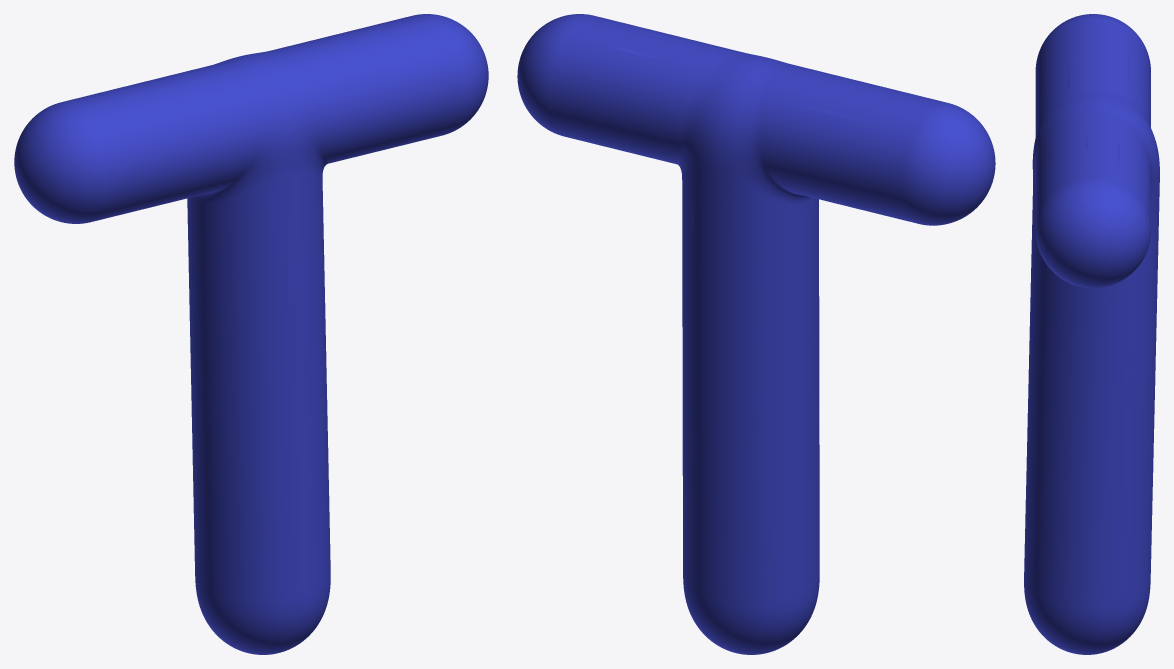
Rendered from letter-t.glb.
The picture shows the model from 3 angles, left to right: view 1: azimuth 30°, elevation 25°; view 2: azimuth 150°, elevation 25°; view 3: azimuth 270°, elevation 25°; orthographic projection. The views are drawn at different scales.
Parts seen in each view (by area): view 1: node_id3; view 2: node_id3; view 3: node_id3.
Boxes of the visible parts, x1,y1,x2,y2 form: node_id3: (14, 14, 488, 654); node_id3: (517, 14, 995, 654); node_id3: (1024, 14, 1159, 654).
Bounding box in the file's own units: 0.4183 × 0.512 × 0.1152.
1 material, 1 textured.
